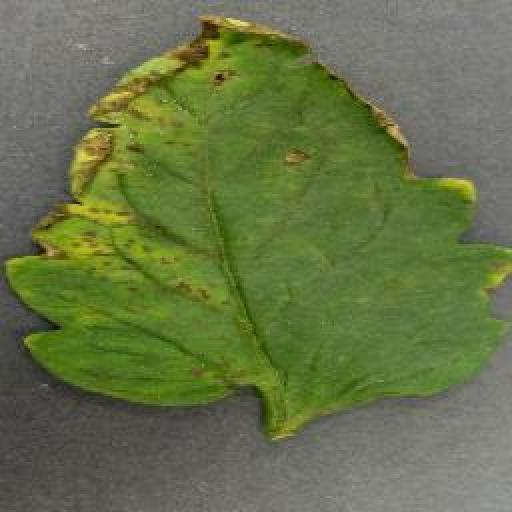Bacterial Spot: (5, 8, 512, 419)
